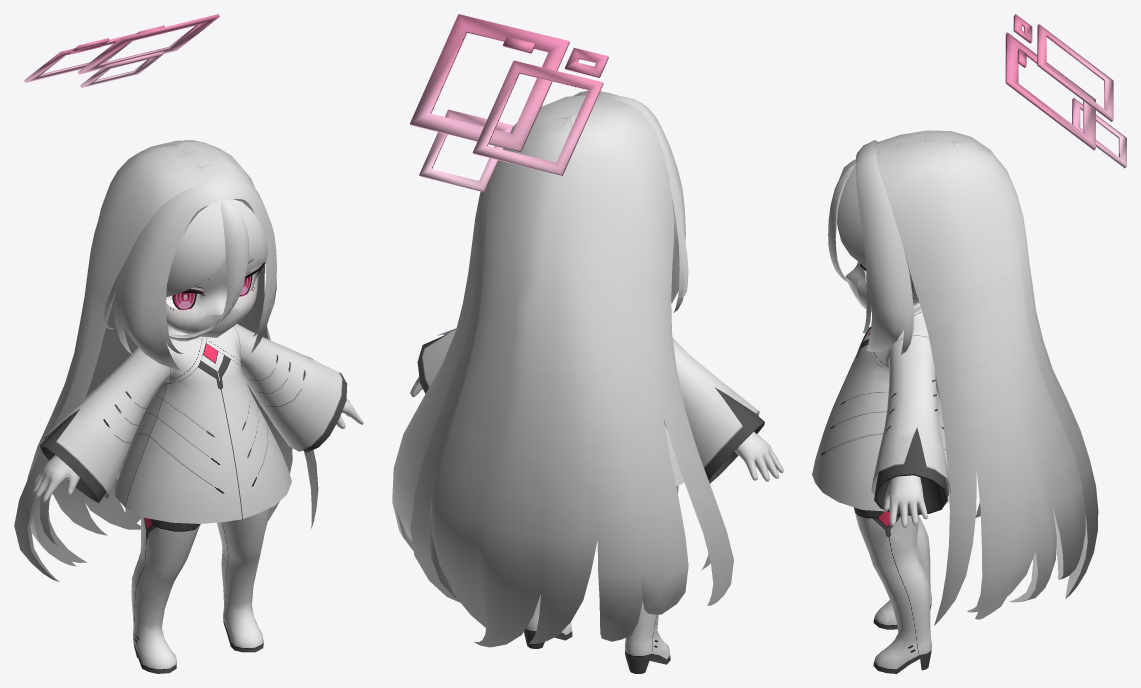
File: Kei (Prototype).glb
The picture shows the model from 3 angles, left to right: view 1: azimuth 30°, elevation 25°; view 2: azimuth 150°, elevation 25°; view 3: azimuth 270°, elevation 25°; orthographic projection. The views are drawn at different scales.
Visible parts, largest first — view 1: NP0269_Body, NP0269_Halo; view 2: NP0269_Body, NP0269_Halo; view 3: NP0269_Body, NP0269_Halo.
Part boxes in pixels (x1,y1,x2,y2): NP0269_Body: (14,140,363,673); NP0269_Halo: (24,14,219,87); NP0269_Body: (392,90,783,673); NP0269_Halo: (410,14,608,192); NP0269_Body: (812,130,1098,673); NP0269_Halo: (1005,14,1126,168).
Bounding box in the file's own units: 0.6376 × 1.1 × 0.5232.
7 materials, 7 textured.
